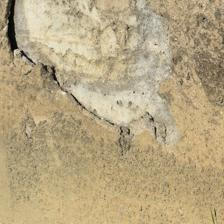Crack: (3, 2, 166, 144)
